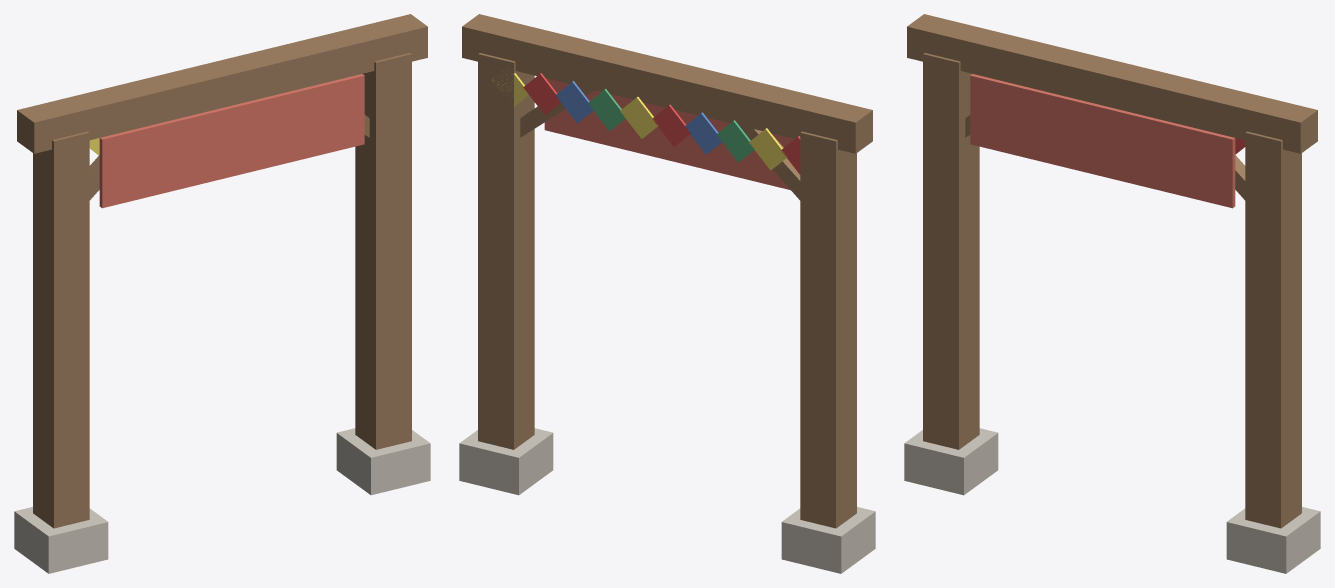
Rendered from VJ_PortalPuente.fbx.
3 renders of one model, left to right at view 1: azimuth 30°, elevation 25°; view 2: azimuth 150°, elevation 25°; view 3: azimuth 330°, elevation 25°, orthographic.
Parts seen in each view (by area): view 1: VJ_PortalPuente; view 2: VJ_PortalPuente; view 3: VJ_PortalPuente.
Part boxes in pixels (x1=…): VJ_PortalPuente: x1=14, y1=14, x2=430, y2=573; VJ_PortalPuente: x1=459, y1=14, x2=875, y2=573; VJ_PortalPuente: x1=904, y1=14, x2=1320, y2=573.
Bounding box in the file's own units: 3.3 × 3.58 × 0.5.
